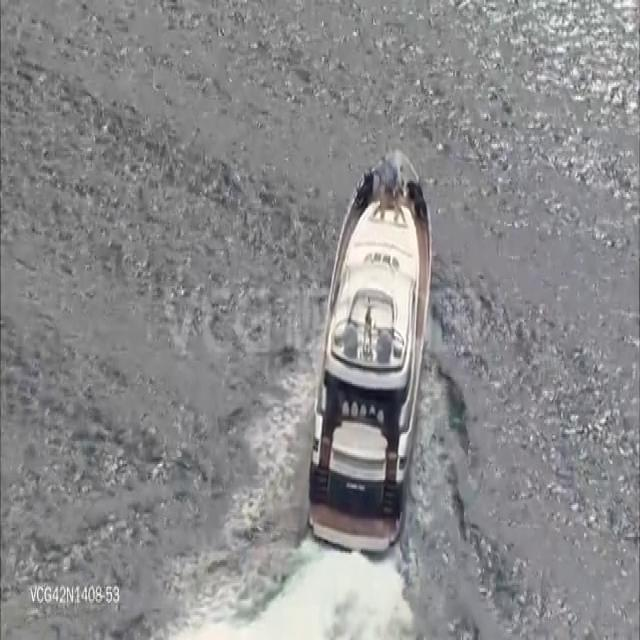houseboat: (306, 146, 434, 568)
